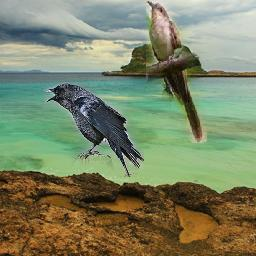Crow: (44, 83, 144, 178)
Cuckoo: (147, 0, 208, 143)
